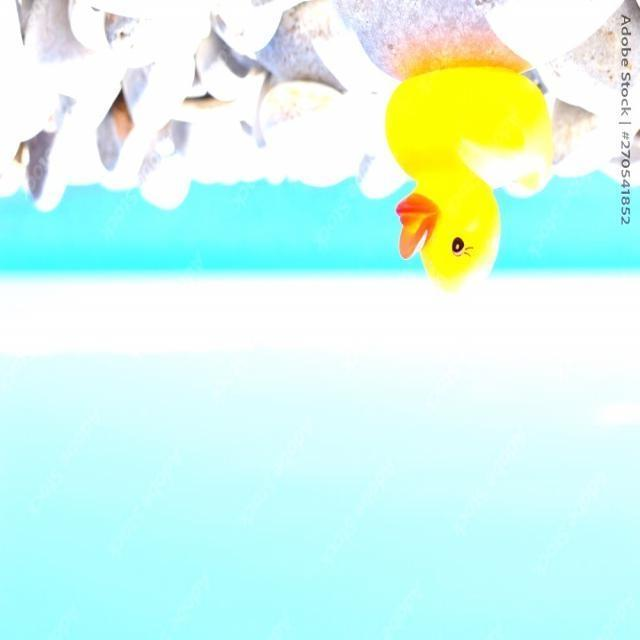rubber-duck: (385, 66, 551, 288)
